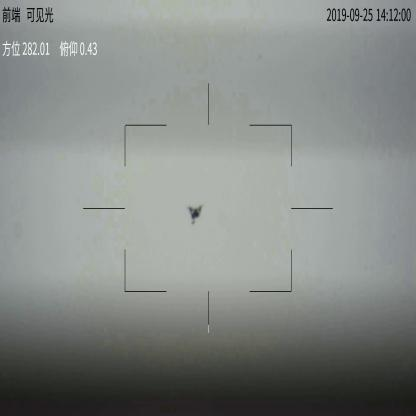uav: (186, 203, 205, 226)
